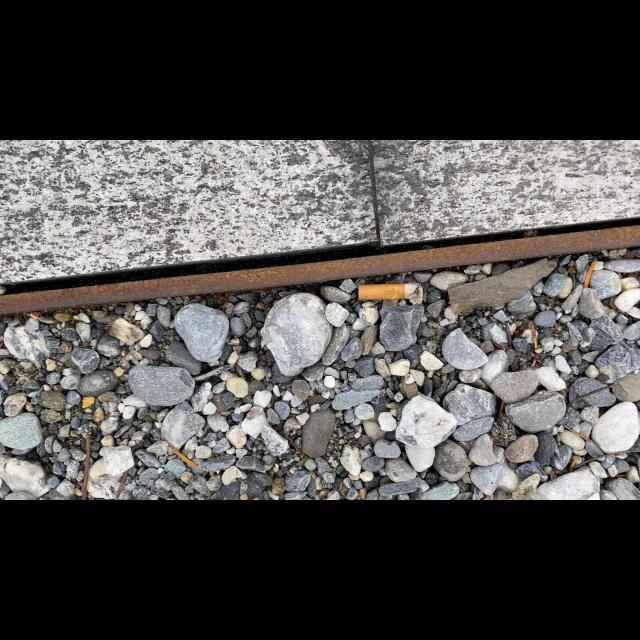cigarette: (358, 283, 421, 300)
